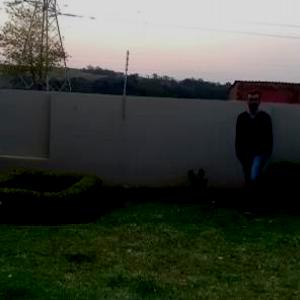follow: (224, 92, 273, 202)
